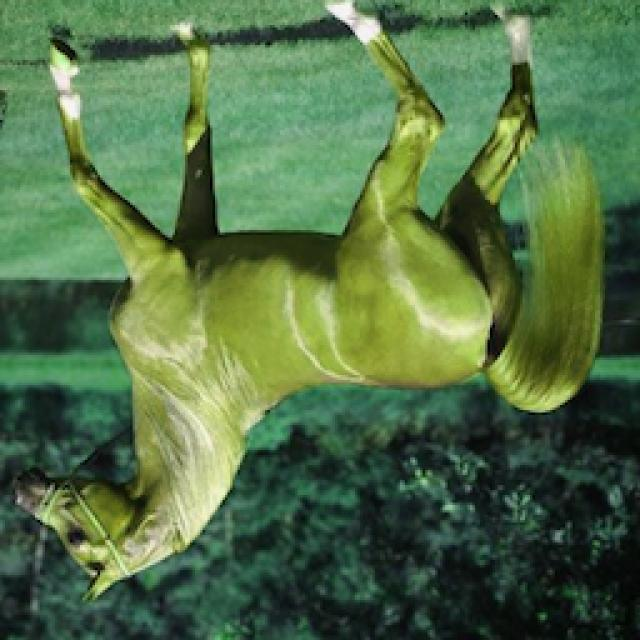Horse: (7, 2, 615, 608)
